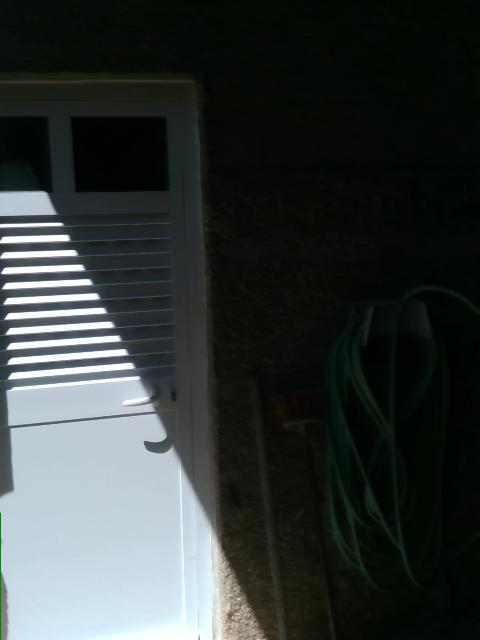door: (0, 70, 215, 632)
